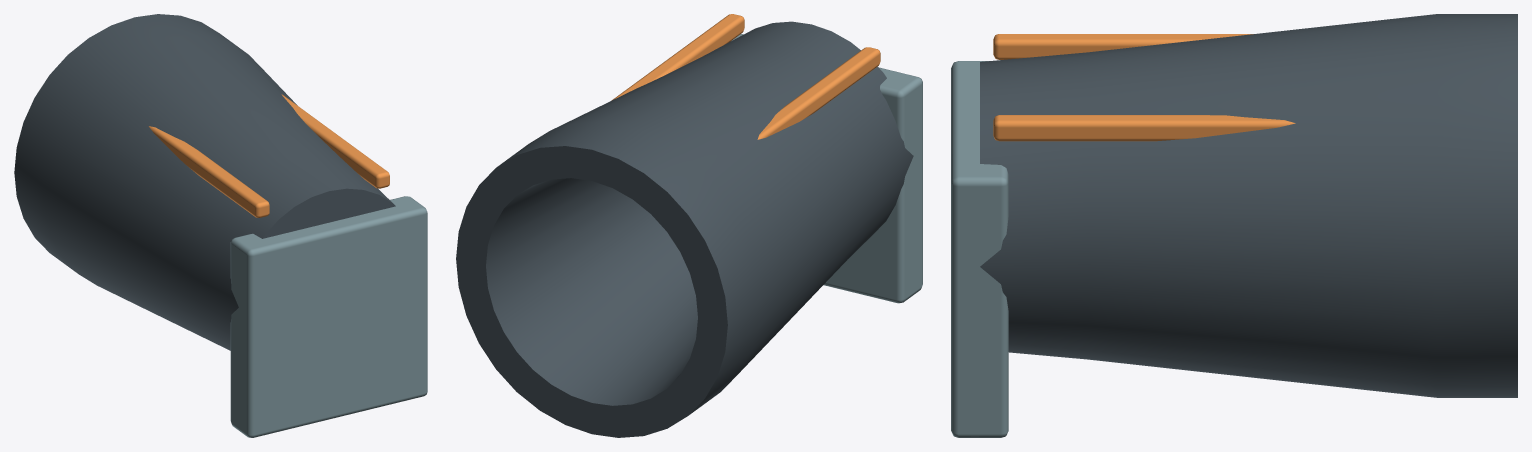
The model's file is engine-large.glb.
The picture shows the model from 3 angles, left to right: view 1: azimuth 30°, elevation 25°; view 2: azimuth 150°, elevation 25°; view 3: azimuth 270°, elevation 25°; orthographic projection. The views are drawn at different scales.
Visible parts, largest first — view 1: large-engine; view 2: large-engine; view 3: large-engine.
Boxes of the visible parts, x1,y1,x2,y2 form: large-engine: (14, 14, 427, 437); large-engine: (456, 14, 922, 437); large-engine: (951, 14, 1517, 437).
Bounding box in the file's own units: 2 × 2 × 2.95.
